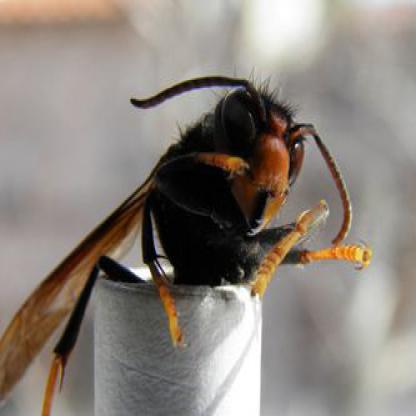Asian Hornet: (0, 71, 371, 411)
